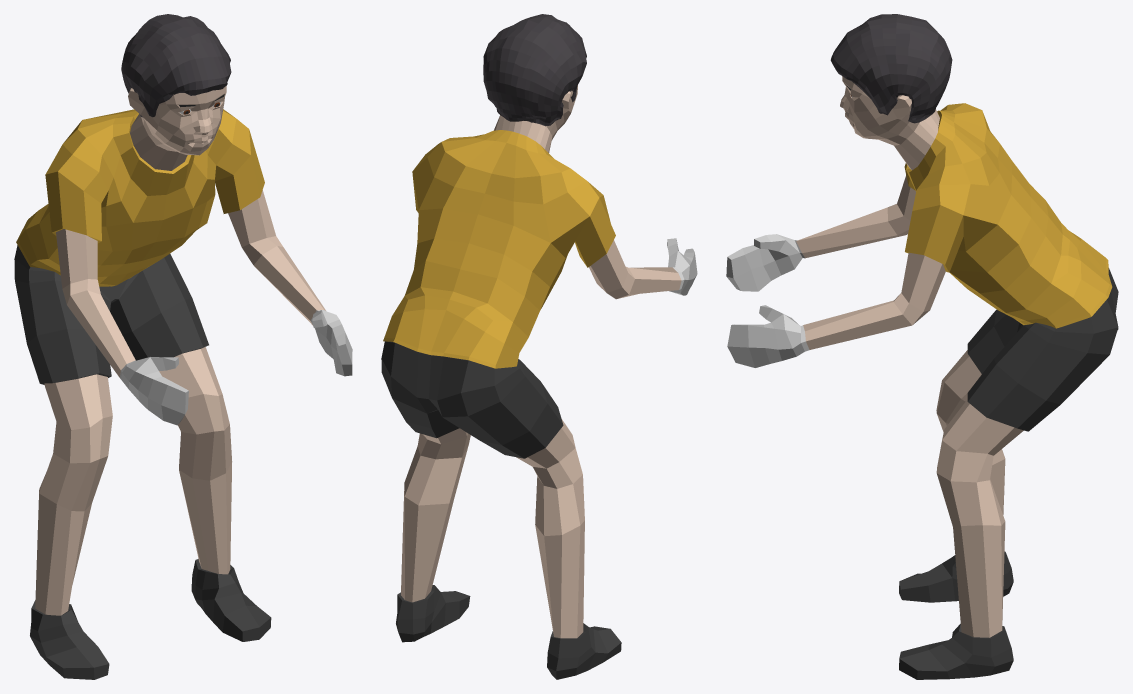
The picture shows the model from 3 angles, left to right: view 1: azimuth 30°, elevation 25°; view 2: azimuth 150°, elevation 25°; view 3: azimuth 270°, elevation 25°; orthographic projection. The views are drawn at different scales.
Visible parts, largest first — view 1: KidGoalkeeper; view 2: KidGoalkeeper; view 3: KidGoalkeeper.
Boxes of the visible parts, box(x1,y1,x2,y2) form: KidGoalkeeper: box(14, 14, 352, 679); KidGoalkeeper: box(381, 14, 697, 679); KidGoalkeeper: box(726, 14, 1118, 679).
Size of the model in its own units: 50.96 by 144 by 83.48.
